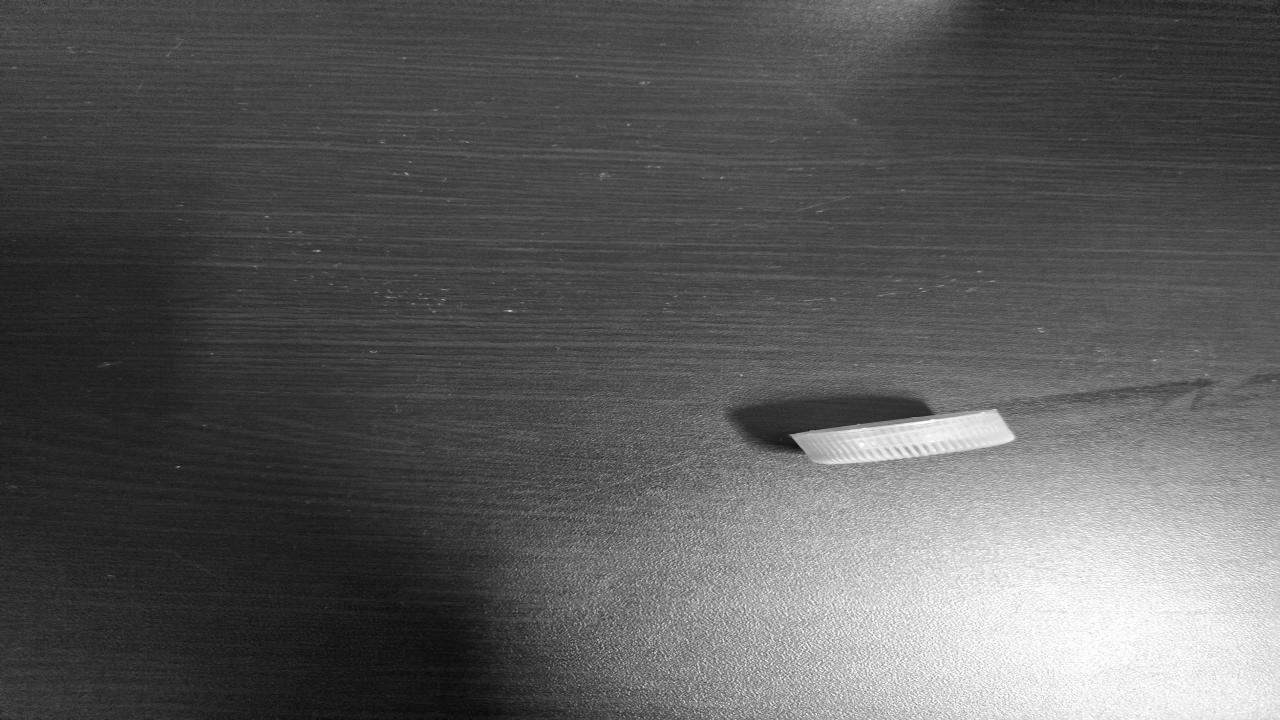bottle_cap: (784, 408, 1018, 465)
